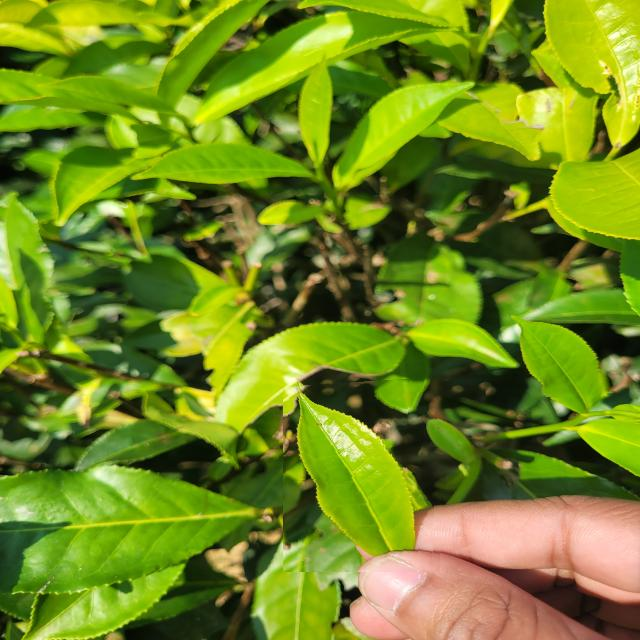Catagory A(1-2 days): (283, 376, 447, 572)
